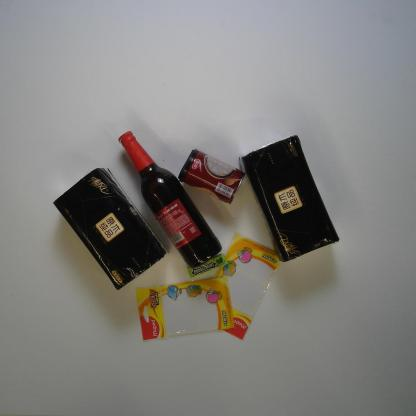Alcohol: (117, 130, 223, 269)
Canned Food: (177, 148, 245, 205)
Gum: (186, 253, 229, 278)
Stationery: (213, 232, 281, 342), (135, 274, 234, 342)
Tissue: (51, 166, 169, 291), (238, 134, 340, 263)
